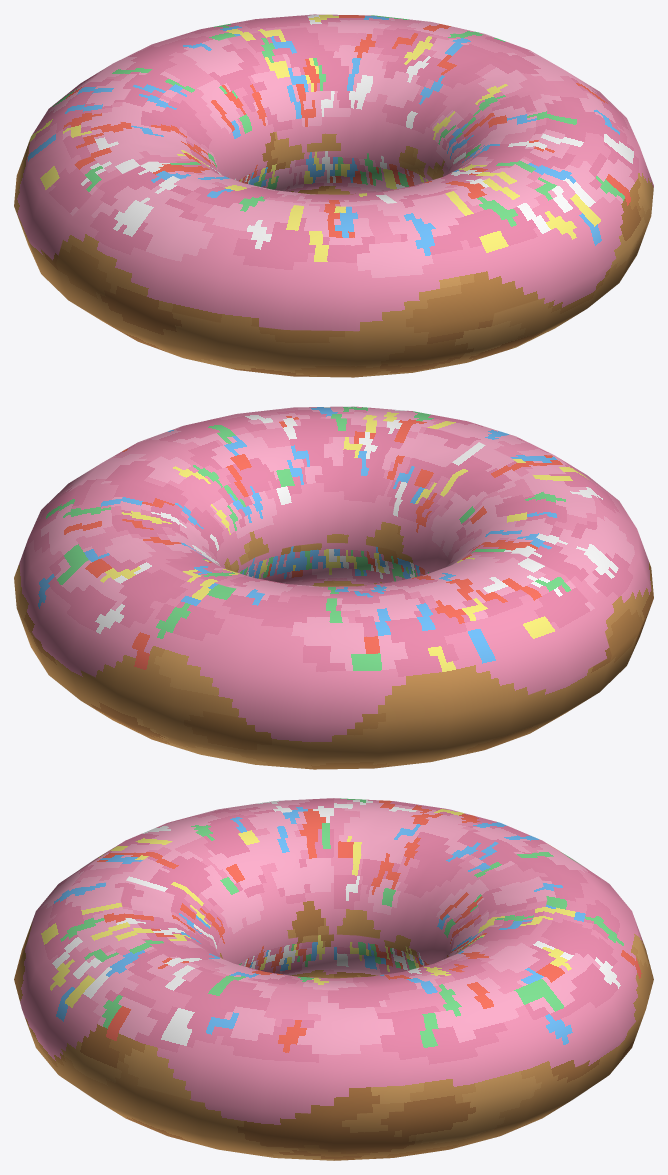
Rendered from donut_seat.glb.
3 renders of one model, top to bottom at view 1: azimuth 30°, elevation 25°; view 2: azimuth 150°, elevation 25°; view 3: azimuth 270°, elevation 25°, orthographic.
Visible parts, largest first — view 1: Torus; view 2: Torus; view 3: Torus.
Part boxes in pixels (bbox=[...]): Torus: bbox=[14, 14, 653, 377]; Torus: bbox=[14, 406, 653, 769]; Torus: bbox=[14, 798, 653, 1160].
Size of the model in its own units: 0.9 by 0.246 by 0.9.
Materials: 1 (1 with a texture image).
